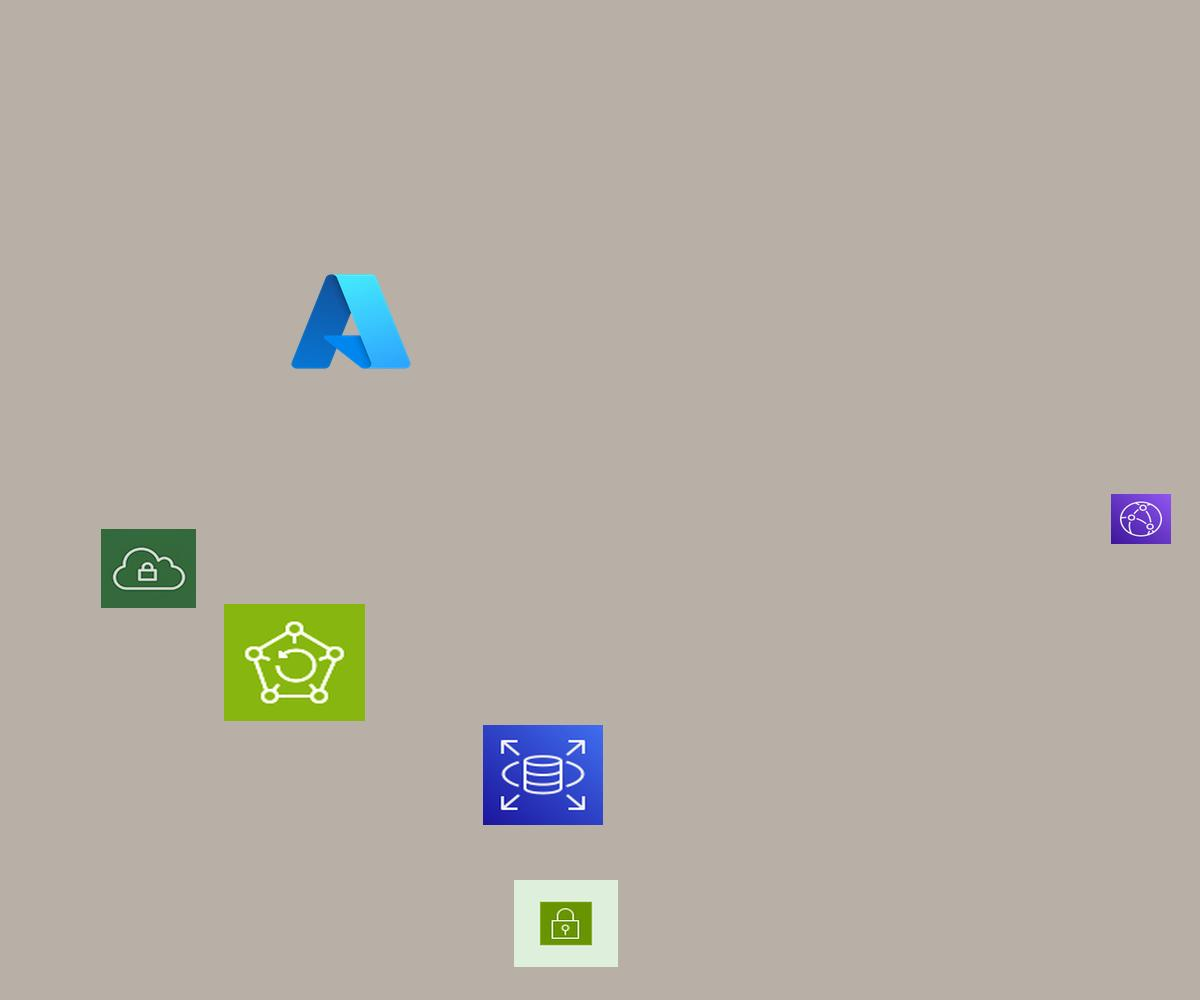AWS-Backup: (224, 604, 365, 721)
AWS-CloudFront: (1111, 494, 1171, 544)
AWS-Private_vpc: (101, 529, 196, 608)
AWS-Public-subnet: (514, 880, 618, 967)
AWS-RDS: (483, 725, 603, 825)
Azure_services: (286, 267, 416, 376)
